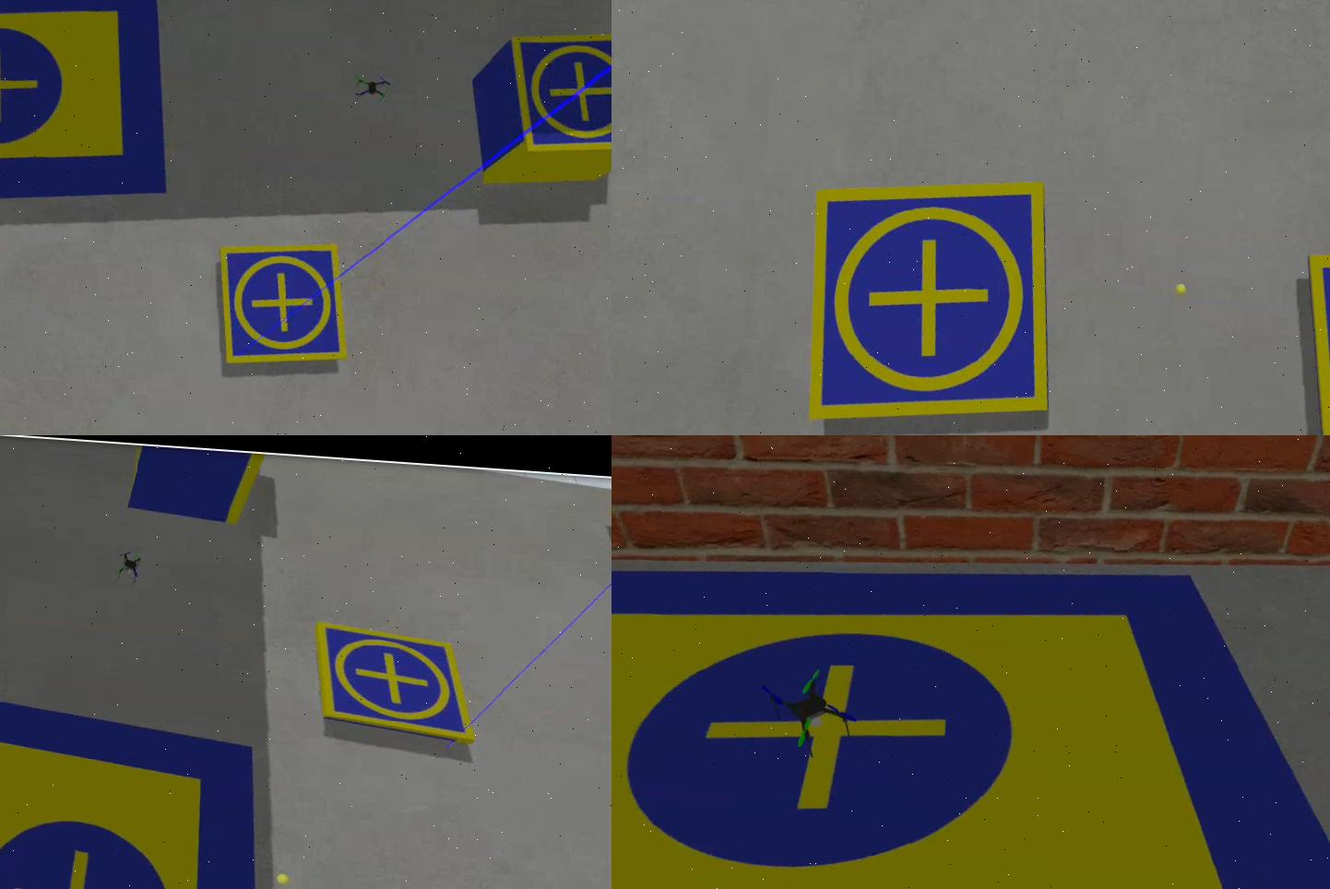large_base: (612, 530, 1330, 889), (1, 683, 301, 889), (1, 1, 186, 233)
small_base: (795, 166, 1066, 436), (312, 617, 488, 746), (209, 235, 356, 381), (500, 28, 612, 167)
